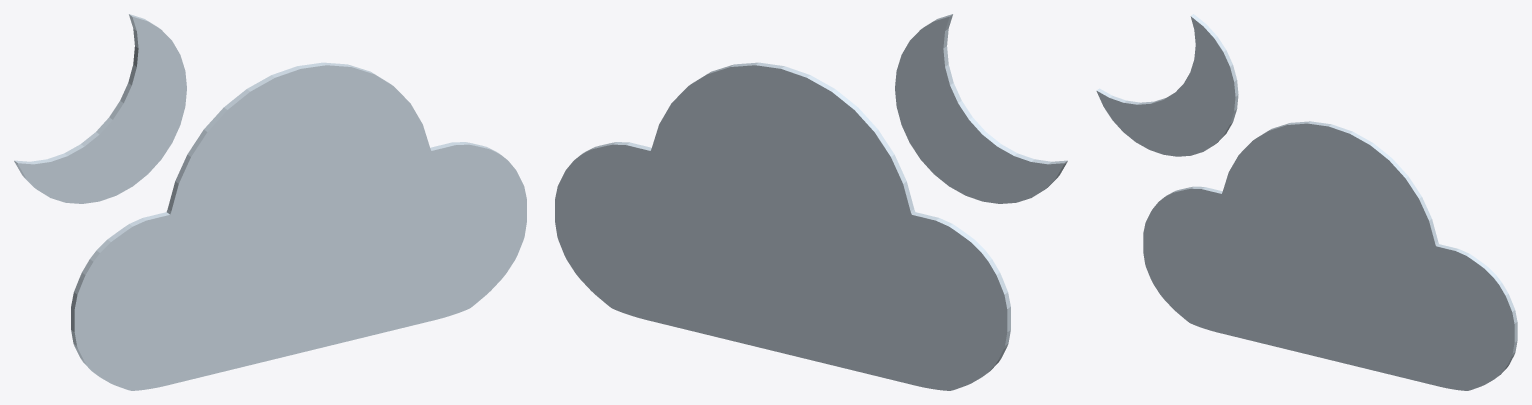
File: Cloud_Night_3D_Icon.fbx
The picture shows the model from 3 angles, left to right: view 1: azimuth 30°, elevation 25°; view 2: azimuth 150°, elevation 25°; view 3: azimuth 330°, elevation 25°; orthographic projection. The views are drawn at different scales.
Parts seen in each view (by area): view 1: Cloud_Night_3D_Icon; view 2: Cloud_Night_3D_Icon; view 3: Cloud_Night_3D_Icon.
Part boxes in pixels (<box>): Cloud_Night_3D_Icon: <box>14,14,526,390</box>; Cloud_Night_3D_Icon: <box>555,14,1067,390</box>; Cloud_Night_3D_Icon: <box>1096,14,1517,390</box>.
Bounding box in the file's own units: 160 × 114 × 2.
